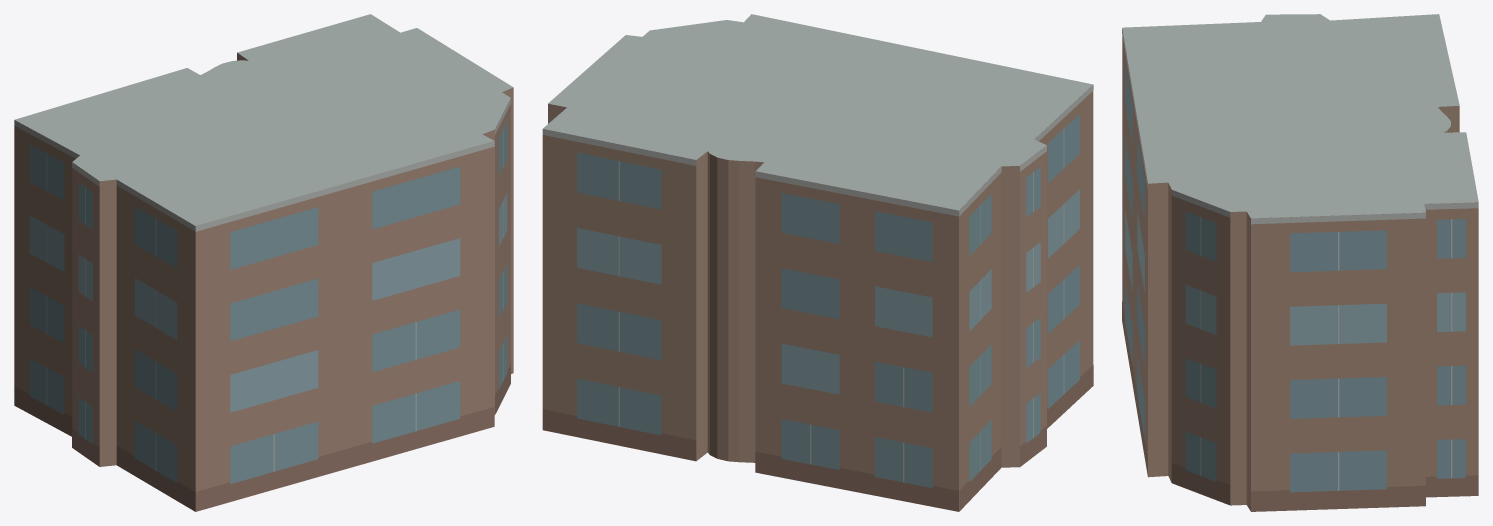
Rendered from survey-upis-32905886.glb.
The picture shows the model from 3 angles, left to right: view 1: azimuth 30°, elevation 25°; view 2: azimuth 150°, elevation 25°; view 3: azimuth 270°, elevation 25°; orthographic projection. The views are drawn at different scales.
Parts seen in each view (by area): view 1: survey-upis-32905886.tmp; view 2: survey-upis-32905886.tmp; view 3: survey-upis-32905886.tmp.
Part boxes in pixels (x1=…): survey-upis-32905886.tmp: x1=14, y1=14, x2=513, y2=511; survey-upis-32905886.tmp: x1=542, y1=14, x2=1093, y2=511; survey-upis-32905886.tmp: x1=1122, y1=14, x2=1478, y2=511.
Size of the model in its own units: 18.23 by 12.2 by 13.45.
